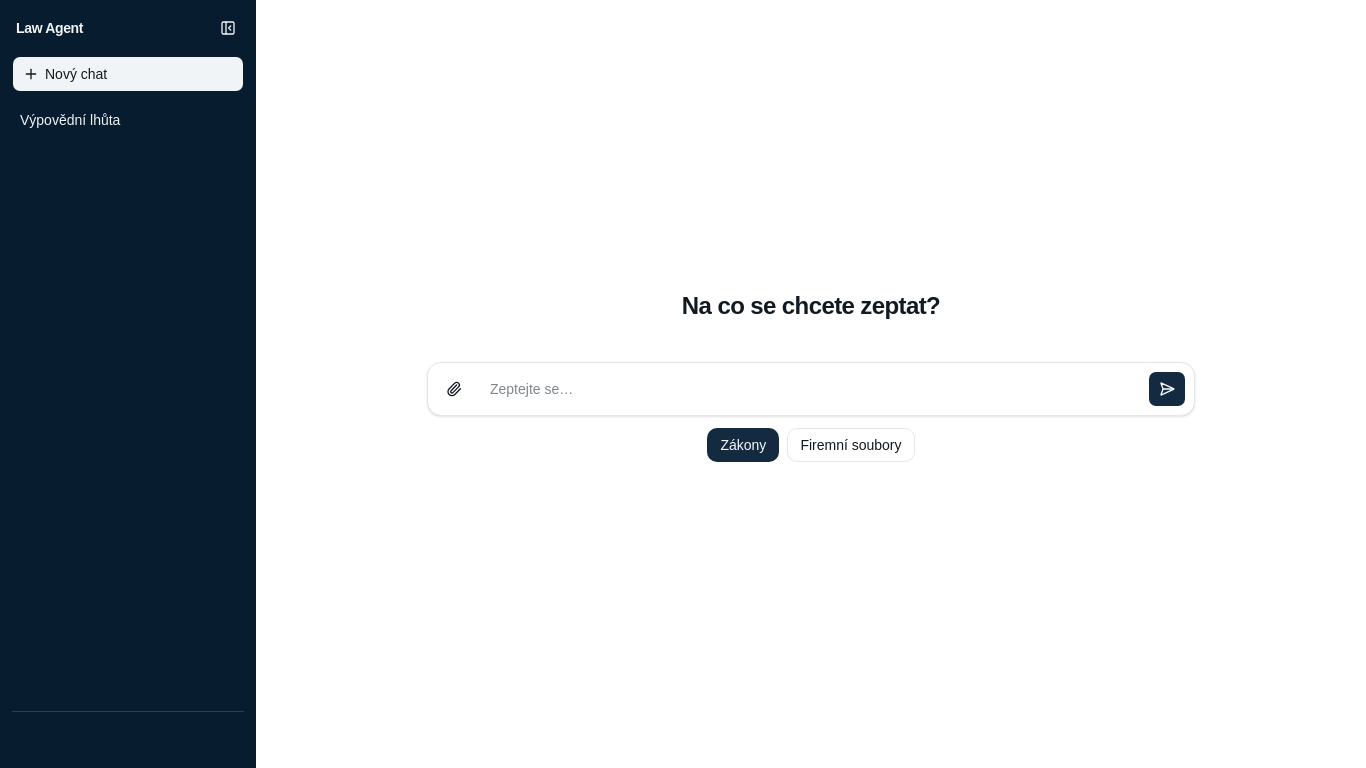
Test: sending the first message of a new chat › hydrates a stored thread from history when it is opened from the sidebar
Step 1. Click the link "Výpovědní lhůta" → click(70, 120), box [20,112,120,128]
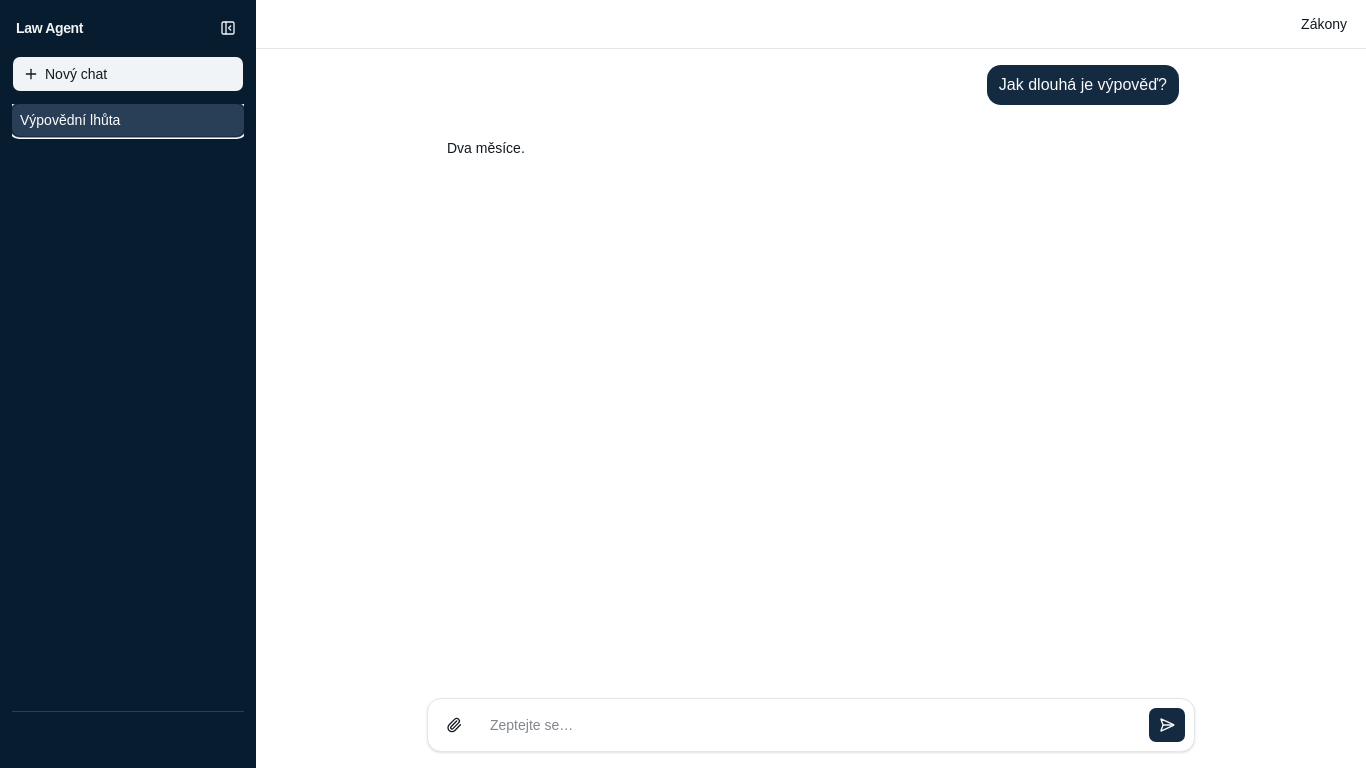
Check: the text "Jak dlouhá je výpověď?" is shown, box [987,65,1179,105]
Check: the text "Dva měsíce." is shown, box [447,140,525,156]
